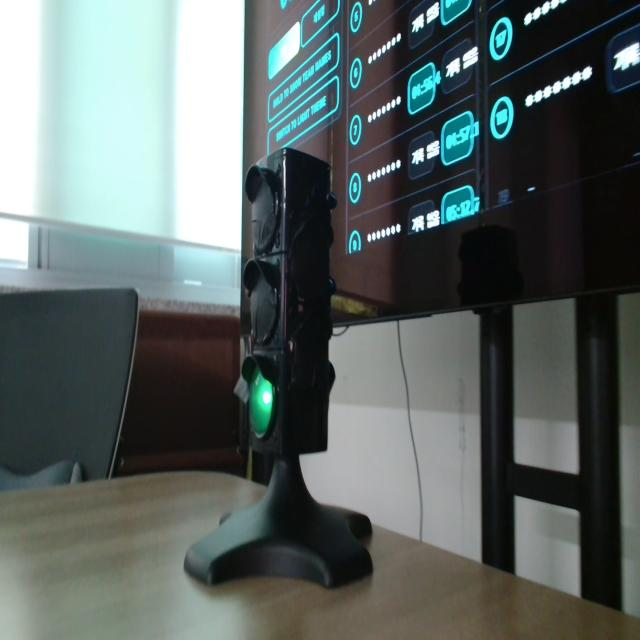green_light: (249, 367, 275, 437)
